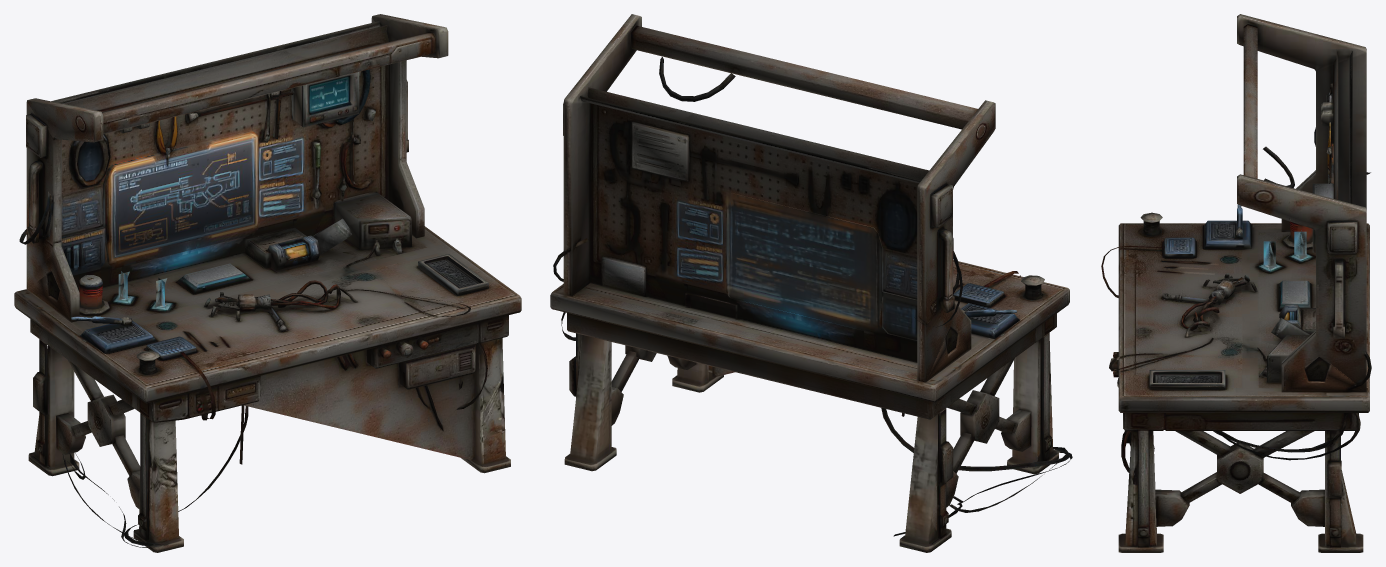
3 views of the same model, side by side, from view 1: azimuth 30°, elevation 25°; view 2: azimuth 150°, elevation 25°; view 3: azimuth 270°, elevation 25° (orthographic). The views are drawn at different scales.
Parts seen in each view (by area): view 1: tripo_node_05930bfe-7fa9-45f3-a000-9cda04ef69d6; view 2: tripo_node_05930bfe-7fa9-45f3-a000-9cda04ef69d6; view 3: tripo_node_05930bfe-7fa9-45f3-a000-9cda04ef69d6.
Part boxes in pixels (x1=…): tripo_node_05930bfe-7fa9-45f3-a000-9cda04ef69d6: x1=14, y1=14, x2=521, y2=552; tripo_node_05930bfe-7fa9-45f3-a000-9cda04ef69d6: x1=550, y1=14, x2=1072, y2=552; tripo_node_05930bfe-7fa9-45f3-a000-9cda04ef69d6: x1=1101, y1=14, x2=1371, y2=552.
Size of the model in its own units: 0.998 by 0.9746 by 0.6348.
1 material, 1 textured.
